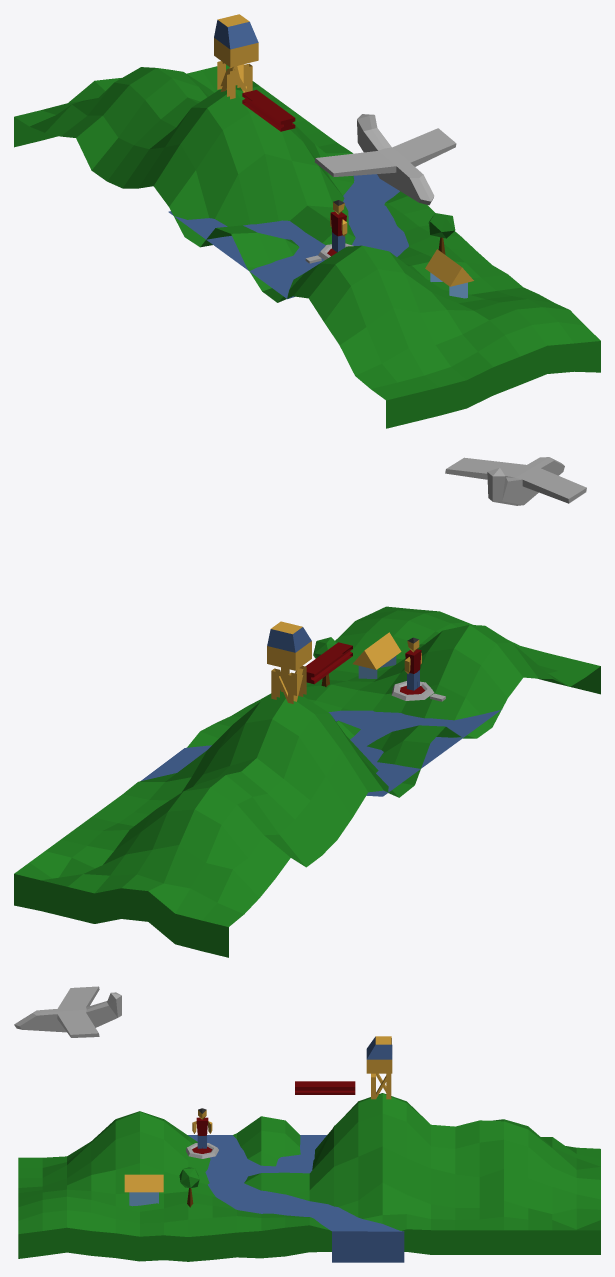
File: plan.fbx
3 renders of one model, top to bottom at view 1: azimuth 30°, elevation 25°; view 2: azimuth 150°, elevation 25°; view 3: azimuth 270°, elevation 25°, orthographic. The views are drawn at different scales.
Parts seen in each view (by area): view 1: grass_plane, river, Cube, cabine, house, rail, NN, mini_gymnast, tree_top; view 2: grass_plane, river, Cube, cabine, house, NN, rail, mini_gymnast; view 3: grass_plane, river, Cube, house, cabine, rail, mini_gymnast, NN, point.
Part boxes in pixels (<box>): grass_plane: <box>14,64,600,428</box>; river: <box>168,174,408,299</box>; Cube: <box>314,114,456,205</box>; cabine: <box>214,14,258,67</box>; house: <box>425,249,473,298</box>; rail: <box>242,89,295,131</box>; NN: <box>217,61,252,99</box>; mini_gymnast: <box>330,200,347,252</box>; tree_top: <box>428,213,455,238</box>; grass_plane: <box>14,606,600,957</box>; river: <box>140,710,500,796</box>; Cube: <box>445,457,586,505</box>; cabine: <box>267,621,311,670</box>; house: <box>352,632,401,678</box>; NN: <box>271,666,306,703</box>; rail: <box>305,642,352,684</box>; mini_gymnast: <box>404,637,421,690</box>; grass_plane: <box>18,1093,600,1261</box>; river: <box>188,1135,404,1262</box>; Cube: <box>14,986,121,1037</box>; house: <box>124,1174,163,1206</box>; cabine: <box>366,1036,392,1073</box>; rail: <box>295,1081,355,1094</box>; mini_gymnast: <box>192,1108,212,1148</box>; NN: <box>371,1073,391,1099</box>; point: <box>186,1143,218,1158</box>.
Size of the model in its own units: 659 by 693 by 1814.
